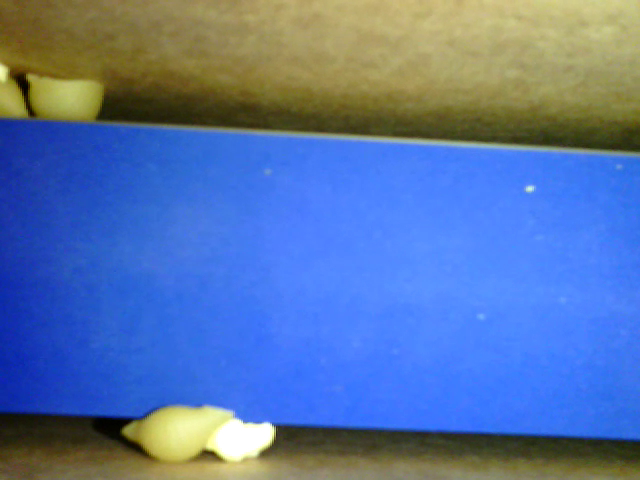shell: (122, 402, 237, 462), (25, 74, 105, 121)
